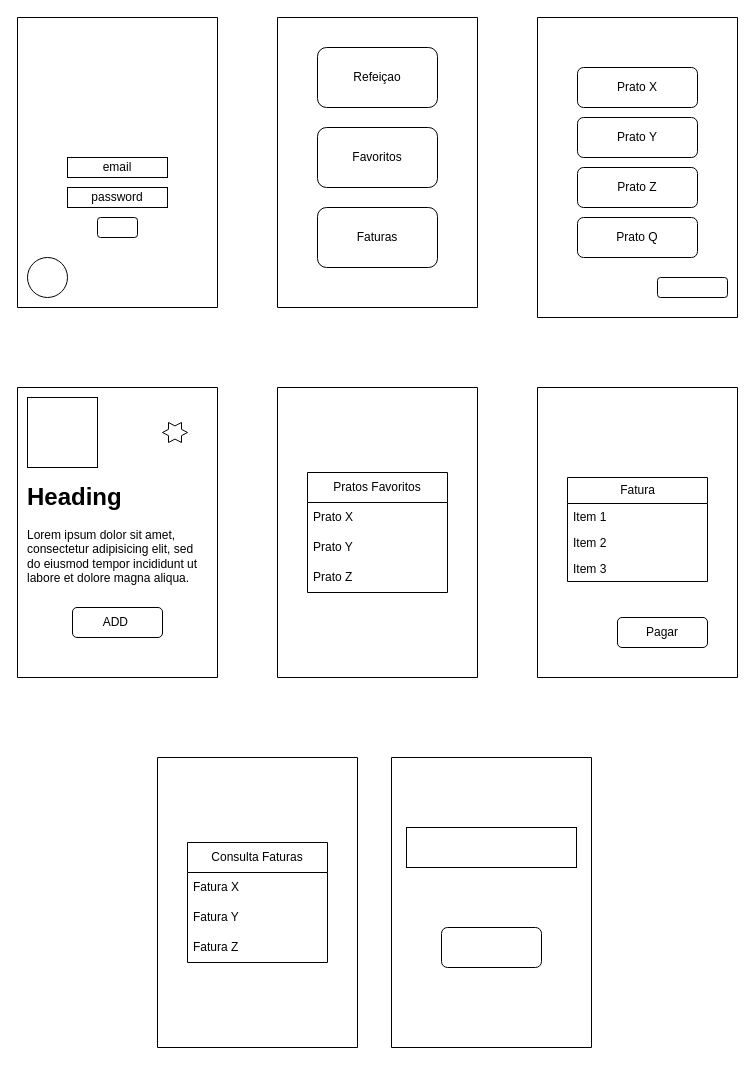
Some shapes in this 755 by 1065 pixel diagram are drawn without their labels. Here are the shapes that lost their labels. From the top down, the centre of each, then its label:
pixel 117 227: Login
pixel 47 277: API CONF
pixel 692 287: Pedir Fatura
pixel 491 847: IP API
pixel 491 947: Save
